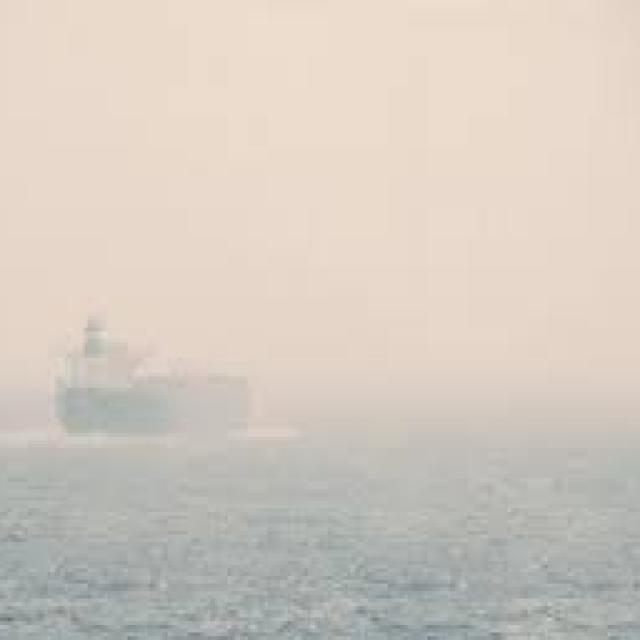cargoship: (61, 275, 268, 440)
